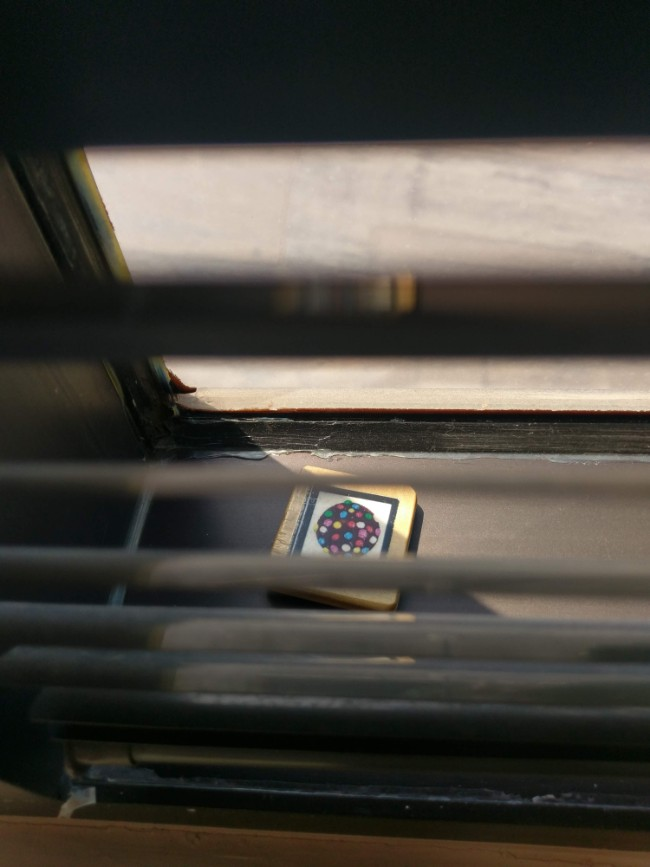cookie: (262, 472, 415, 587)
